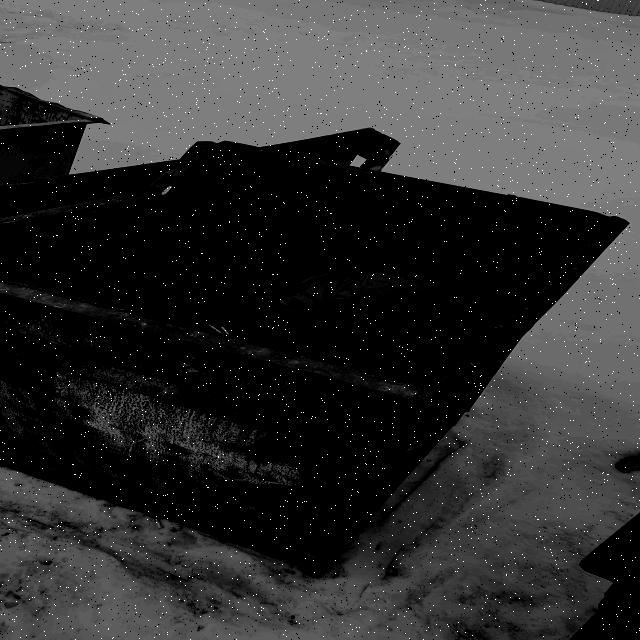Trashcan: (0, 98, 640, 589)
